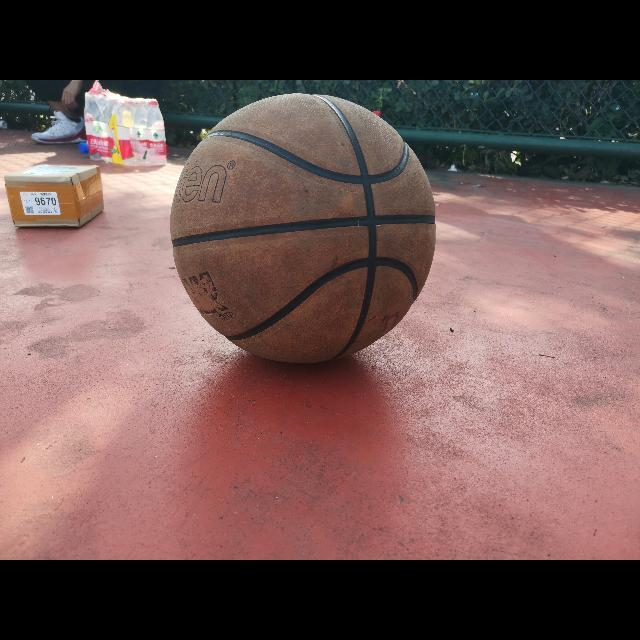basketball: (171, 94, 437, 364)
